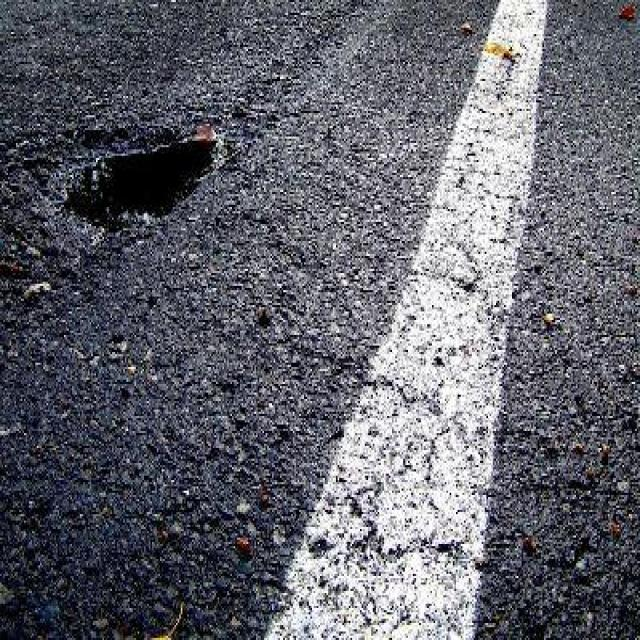pothole: (36, 113, 230, 267)
